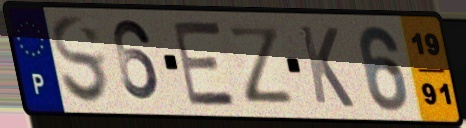6: (356, 22, 410, 114), (111, 17, 163, 108)
E: (169, 19, 241, 109)
K: (296, 22, 358, 111)
S: (49, 13, 113, 109)
Z: (225, 24, 297, 106)
